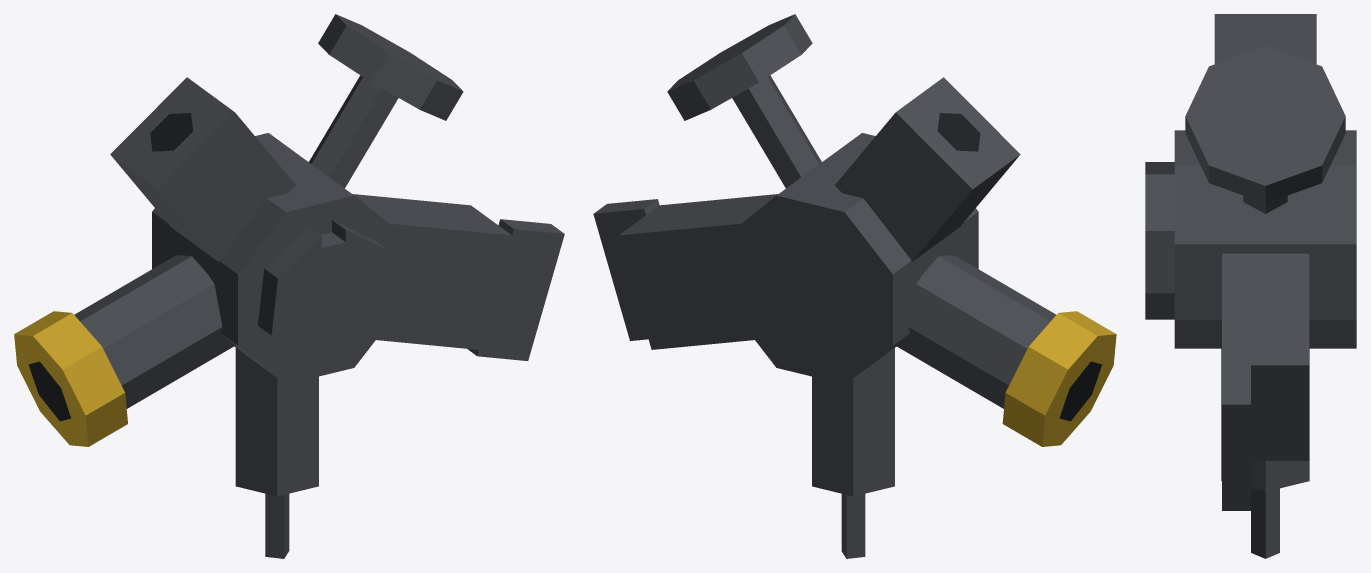
Rendered from arm_tool_thermal.glb.
3 renders of one model, left to right at view 1: azimuth 30°, elevation 25°; view 2: azimuth 150°, elevation 25°; view 3: azimuth 270°, elevation 25°, orthographic. The views are drawn at different scales.
Visible parts, largest first — view 1: arm_tool_thermal; view 2: arm_tool_thermal; view 3: arm_tool_thermal.
Part boxes in pixels (x1,y1,x2,y2): arm_tool_thermal: (14, 14, 564, 558); arm_tool_thermal: (593, 14, 1116, 558); arm_tool_thermal: (1145, 14, 1356, 558).
Size of what is drawn, in the model's own units: 0.1721 by 0.1646 by 0.058.
